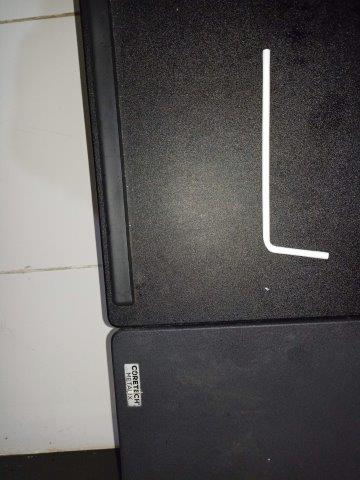sedotan: (261, 48, 329, 259)
